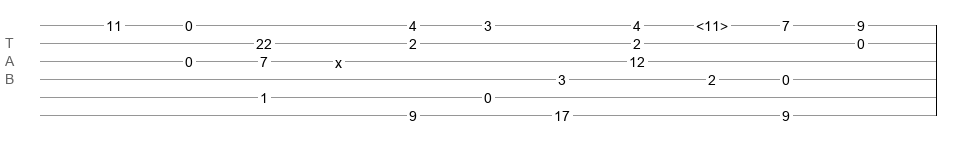0: (185, 18, 193, 28), (185, 54, 193, 64), (484, 90, 492, 100), (782, 72, 790, 82), (857, 36, 865, 46)
1: (260, 90, 268, 100)
11: (106, 18, 122, 28)
12: (629, 54, 645, 64)
17: (554, 108, 570, 118)
2: (409, 36, 417, 46), (633, 36, 641, 46), (708, 72, 716, 82)
22: (256, 36, 272, 46)
3: (484, 18, 492, 28), (558, 72, 566, 82)
4: (409, 18, 417, 28), (633, 18, 641, 28)
7: (260, 54, 268, 64), (782, 18, 790, 28)
9: (409, 108, 417, 118), (782, 108, 790, 118), (857, 18, 865, 28)
harmonic: (696, 18, 728, 28)
x: (335, 55, 342, 63)
